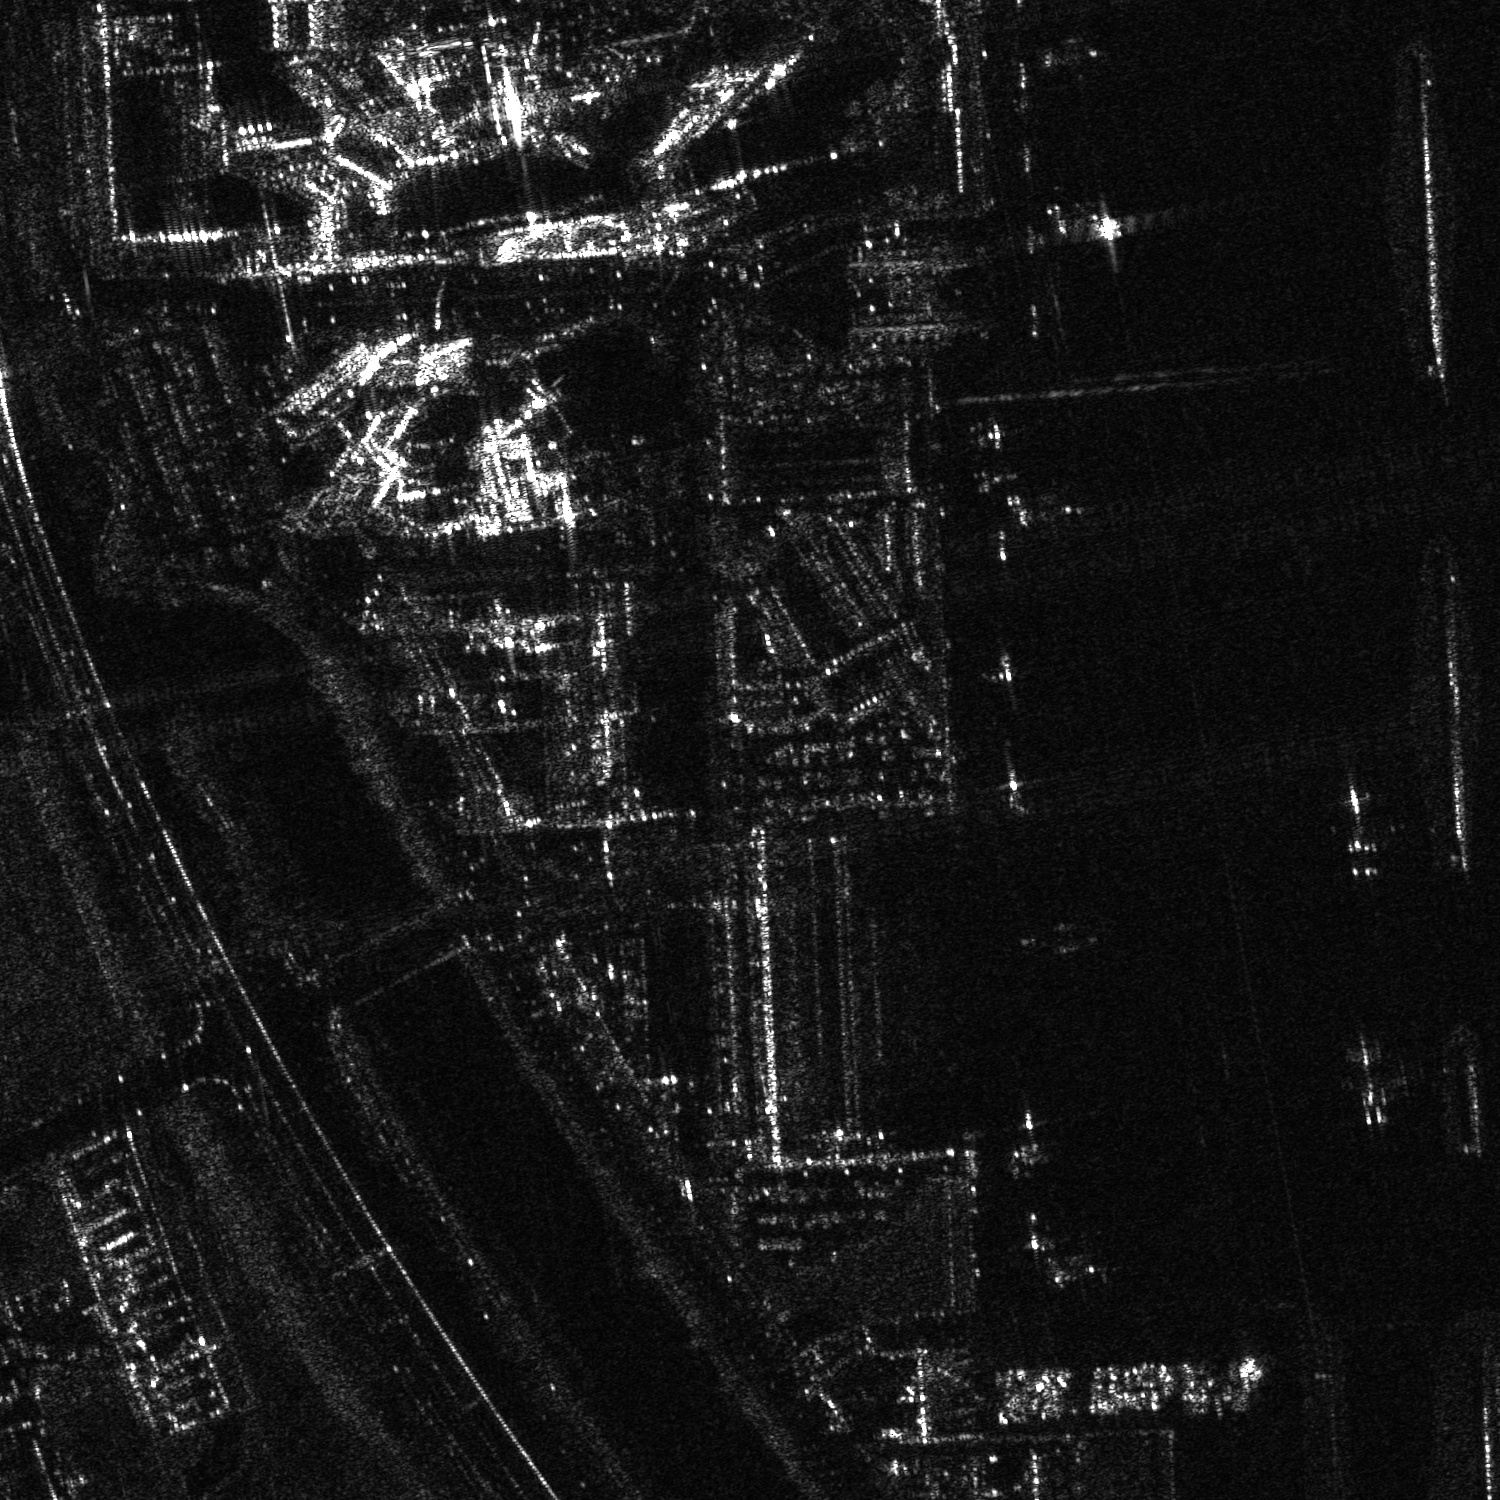A220: (1033, 169, 1152, 269), (988, 484, 1093, 541), (1034, 1232, 1128, 1295), (1034, 23, 1113, 92)
other: (1341, 1022, 1407, 1132), (1332, 765, 1387, 889)
